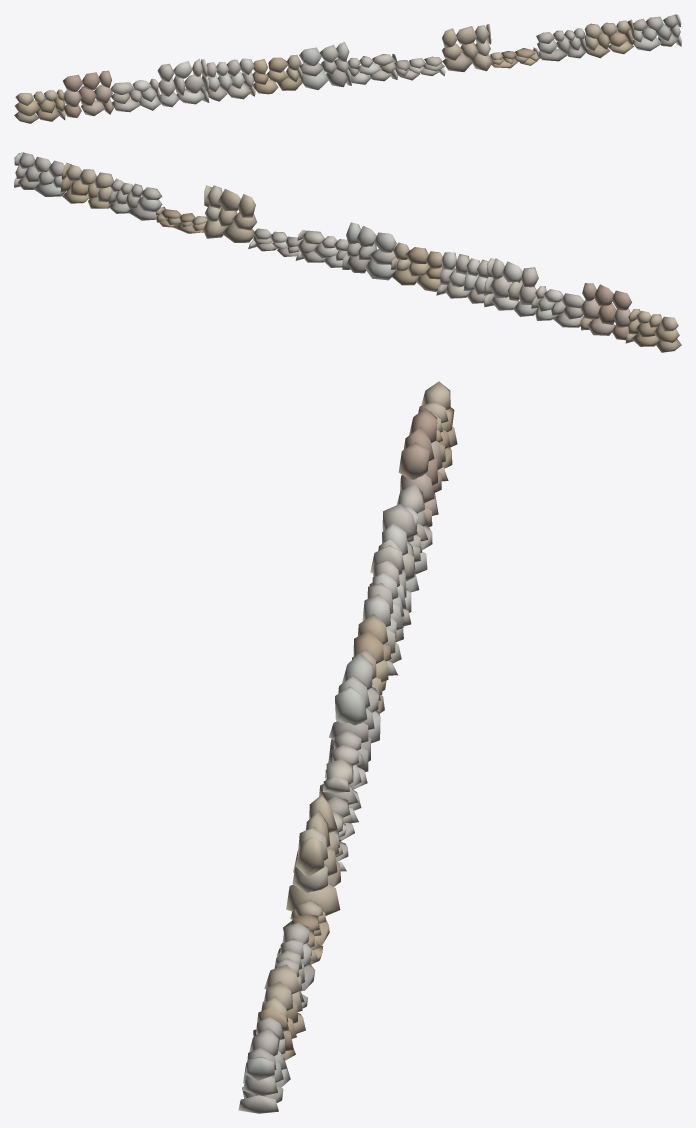
File: farm_2_-3_near.glb
The picture shows the model from 3 angles, top to bottom: view 1: azimuth 30°, elevation 25°; view 2: azimuth 150°, elevation 25°; view 3: azimuth 270°, elevation 25°; orthographic projection. The views are drawn at different scales.
Parts seen in each view (by area): view 1: geometry_0; view 2: geometry_0; view 3: geometry_0.
Part boxes in pixels (x1,y1,x2,y2): geometry_0: (14,14,681,123); geometry_0: (14,152,681,352); geometry_0: (238,381,457,1113).
Size of the model in its own units: 22.14 by 2.59 by 3.4.
